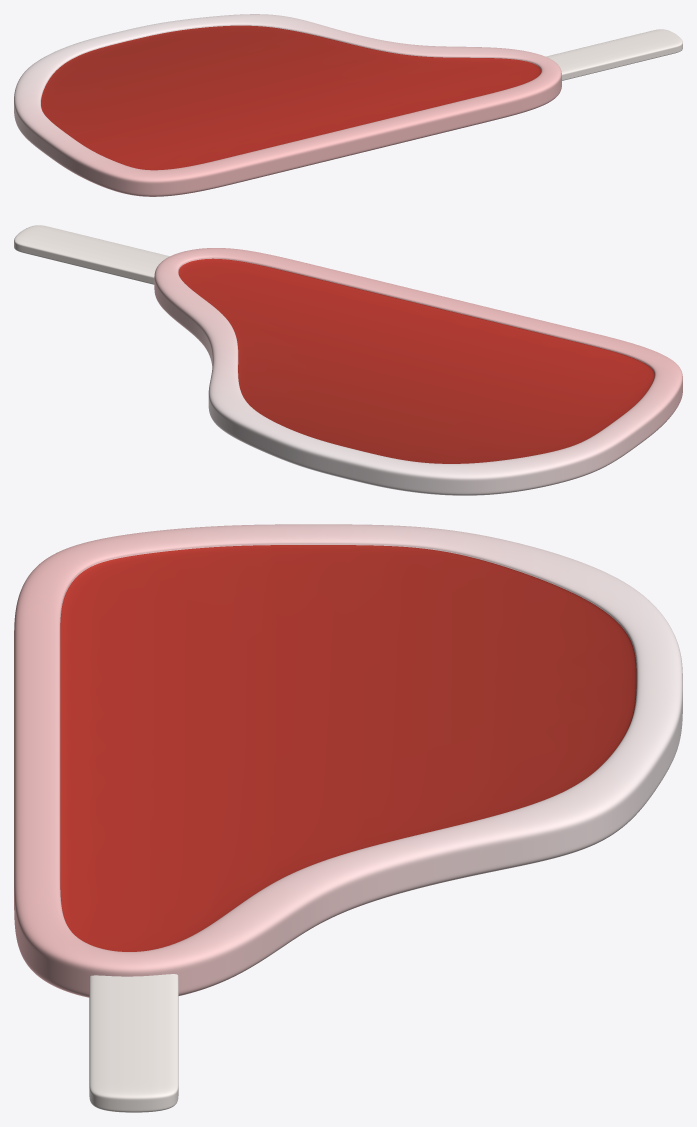
The model's file is HH_RawPork.fbx.
The picture shows the model from 3 angles, top to bottom: view 1: azimuth 30°, elevation 25°; view 2: azimuth 150°, elevation 25°; view 3: azimuth 270°, elevation 25°; orthographic projection. The views are drawn at different scales.
Parts seen in each view (by area): view 1: Top, Bottom; view 2: Top, Bottom; view 3: Top, Bottom.
Part boxes in pixels (bbox=[...]): Top: bbox=[14, 14, 682, 188]; Bottom: bbox=[14, 46, 682, 196]; Top: bbox=[14, 225, 682, 486]; Bottom: bbox=[14, 245, 682, 495]; Top: bbox=[14, 524, 682, 1105]; Bottom: bbox=[14, 704, 682, 1112].
Size of the model in its own units: 60 by 1.96 by 30.
Materials: 1 (1 with a texture image).
